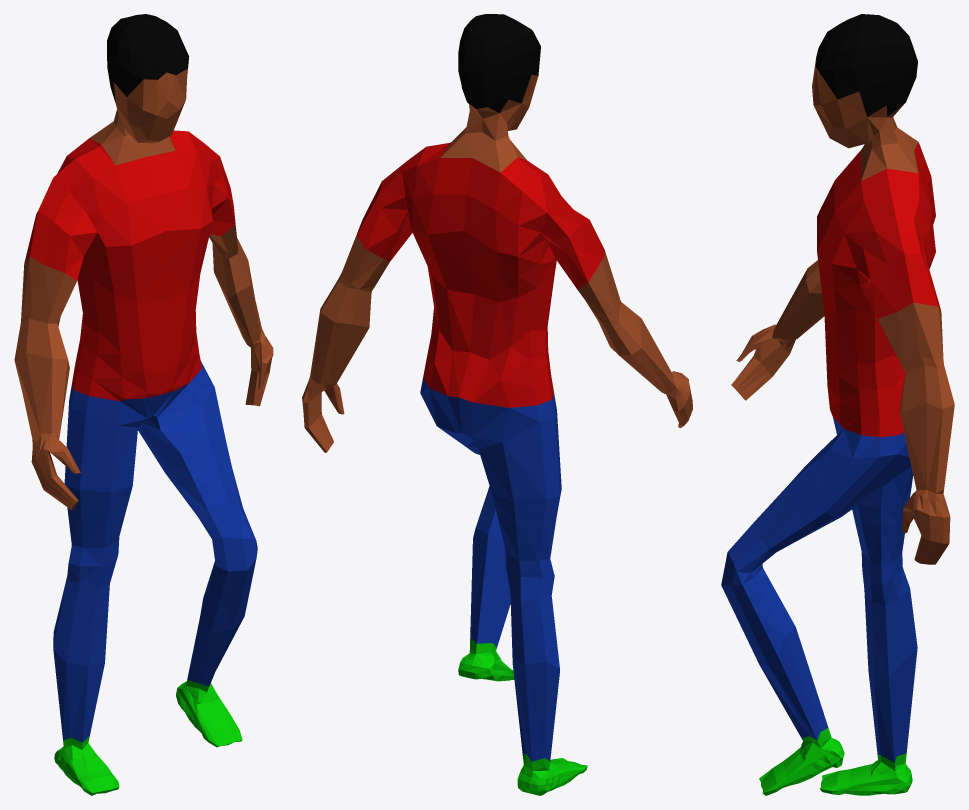
File: Character2.obj
The picture shows the model from 3 angles, left to right: view 1: azimuth 30°, elevation 25°; view 2: azimuth 150°, elevation 25°; view 3: azimuth 270°, elevation 25°; orthographic projection. The views are drawn at different scales.
Visible parts, largest first — view 1: Cube_Cube.002; view 2: Cube_Cube.002; view 3: Cube_Cube.002.
Part boxes in pixels (left/top/right/bottom): Cube_Cube.002: left=14, top=14, right=273, bottom=795; Cube_Cube.002: left=302, top=14, right=692, bottom=795; Cube_Cube.002: left=721, top=14, right=954, bottom=795.
Bounding box in the file's own units: 0.7616 × 1.76 × 0.4662.
